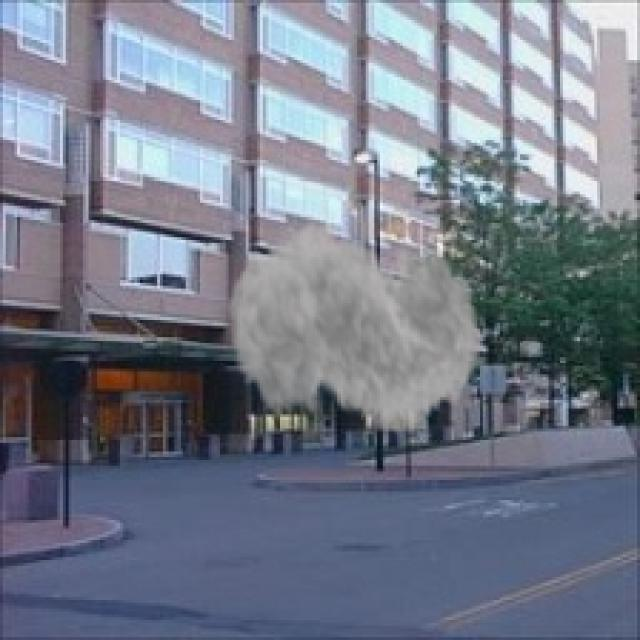smoke: (226, 200, 483, 463)
